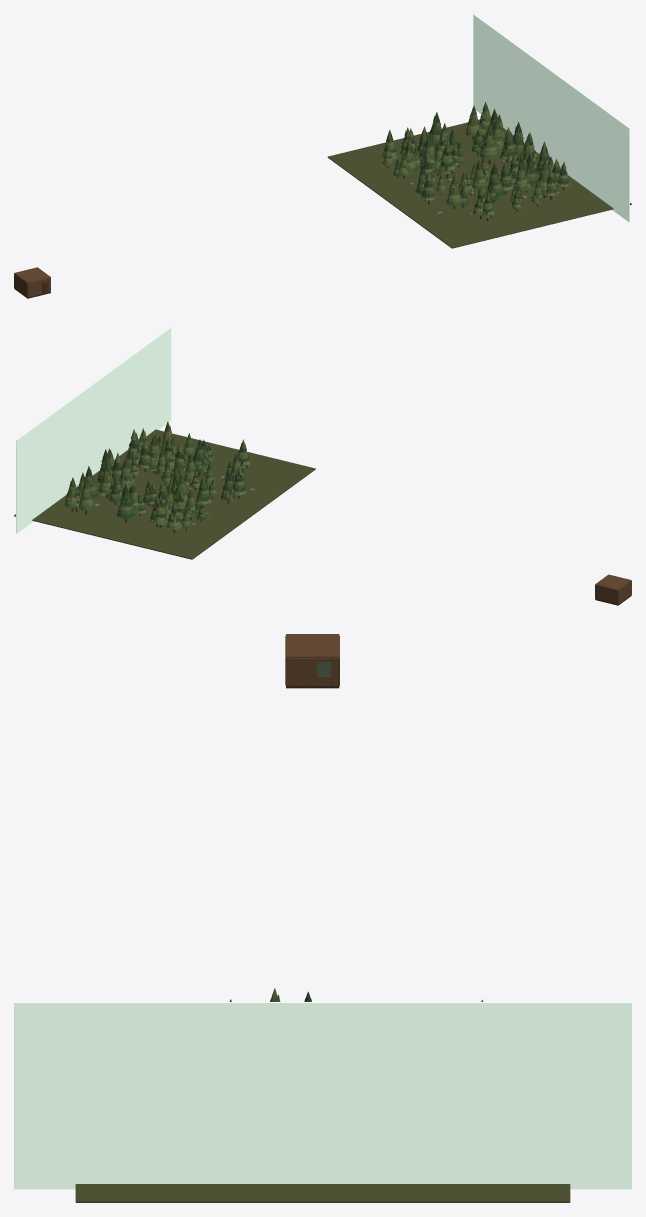
Rendered from Poetry_Escape_Room_Complete.fbx.
3 views of the same model, one above another, from view 1: azimuth 30°, elevation 25°; view 2: azimuth 150°, elevation 25°; view 3: azimuth 270°, elevation 25° (orthographic). The views are drawn at different scales.
Parts seen in each view (by area): view 1: Forest distant haze.001, Forest floor.001, Forest pine 059.001; view 2: Forest distant haze.001, Forest floor.001; view 3: Forest distant haze.001, Forest floor.001, Ceiling.001, East wall south.001.
Part boxes in pixels (bbox=[...]): Forest distant haze.001: bbox=[473, 14, 629, 222]; Forest floor.001: bbox=[327, 119, 631, 248]; Forest pine 059.001: bbox=[479, 124, 498, 164]; Forest distant haze.001: bbox=[16, 327, 171, 533]; Forest floor.001: bbox=[14, 429, 315, 559]; Forest distant haze.001: bbox=[14, 1002, 631, 1189]; Forest floor.001: bbox=[75, 1184, 570, 1202]; Ceiling.001: bbox=[286, 634, 339, 657]; East wall south.001: bbox=[287, 658, 317, 686].
Bounding box in the file's own units: 123 × 20 × 60.
21 materials, 12 textured.
